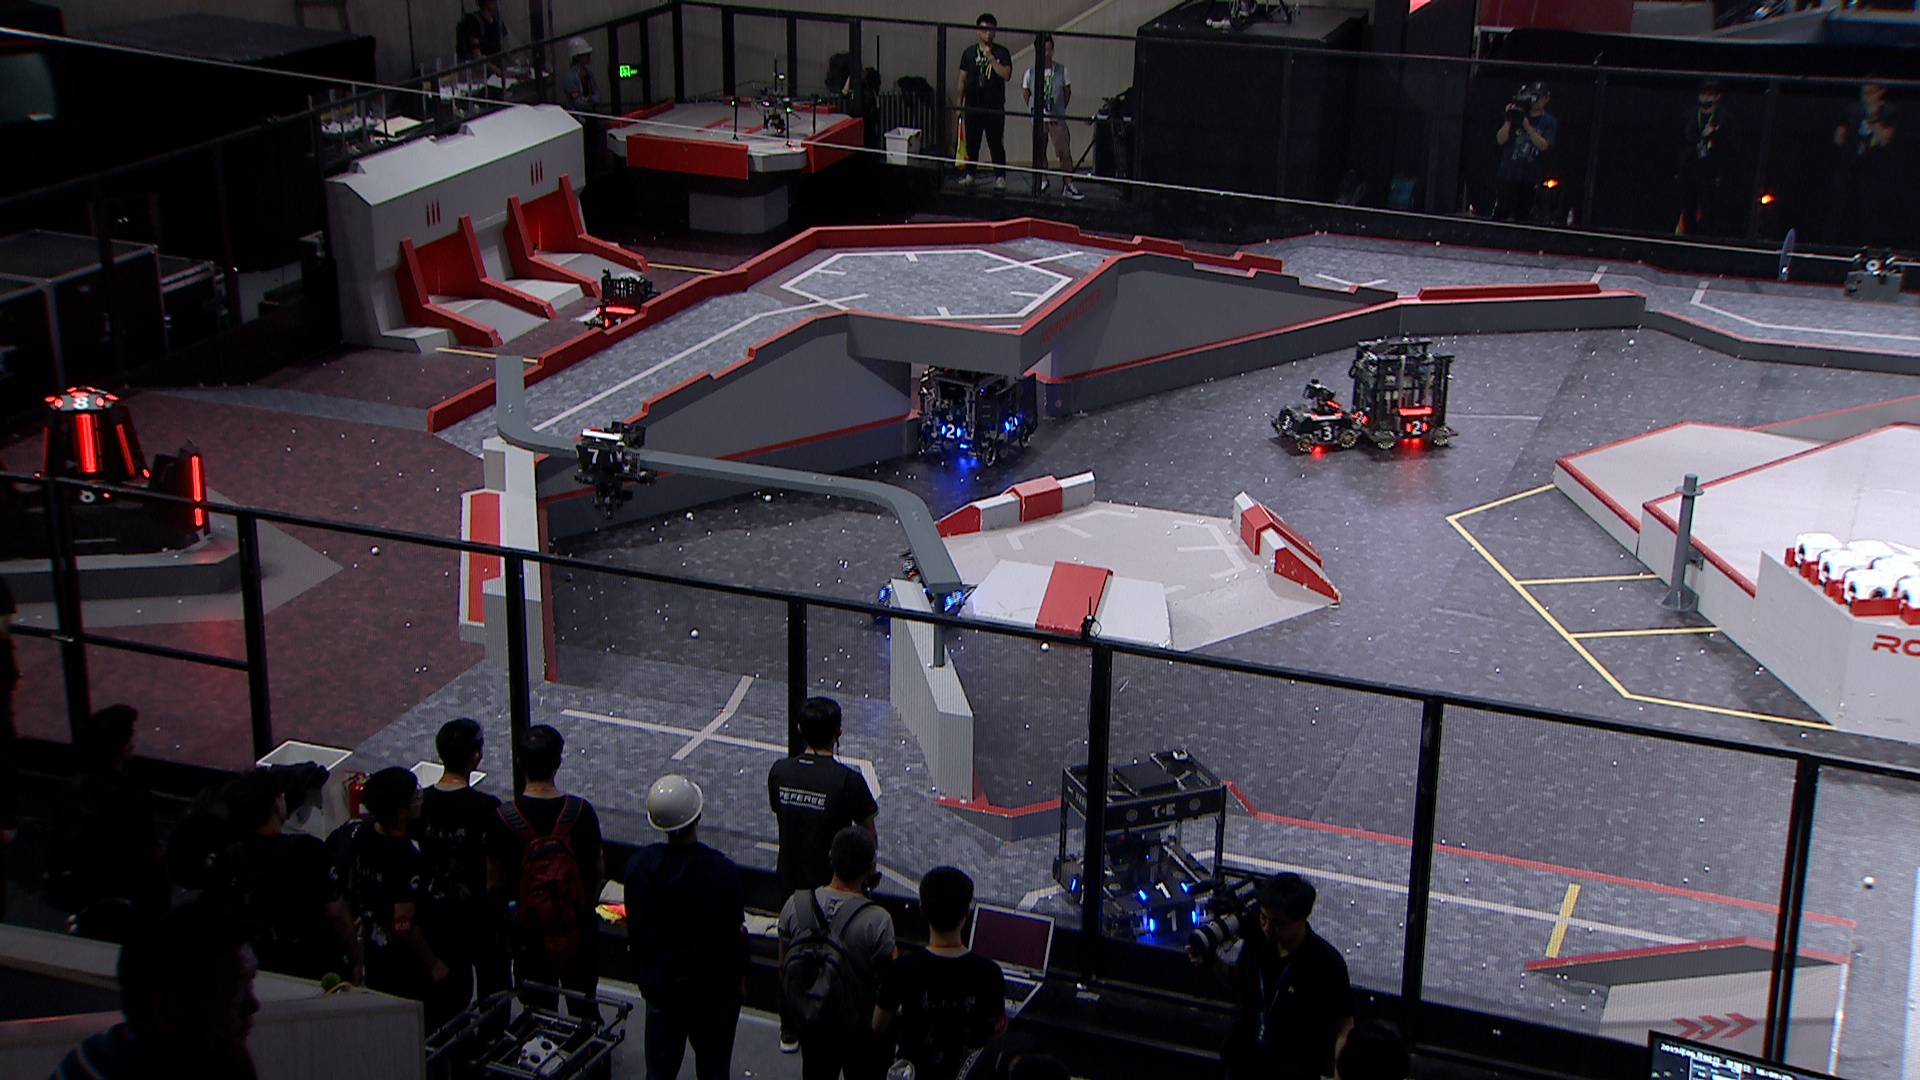armor: (71, 411, 102, 476), (1145, 907, 1200, 938), (187, 452, 207, 531), (112, 423, 138, 477), (1134, 880, 1189, 903), (36, 423, 53, 479), (53, 396, 107, 413), (571, 444, 615, 465), (73, 488, 111, 506), (1065, 880, 1088, 907), (938, 422, 964, 443), (1403, 418, 1429, 438), (1317, 423, 1338, 443), (1001, 414, 1021, 434), (1352, 407, 1367, 431), (944, 588, 964, 607), (600, 315, 626, 328), (1278, 413, 1294, 433)
car: (1048, 746, 1233, 948), (911, 356, 1040, 469), (1346, 335, 1458, 454), (868, 542, 977, 624), (1269, 378, 1362, 456), (582, 268, 675, 345)
watcher: (570, 418, 651, 508)
